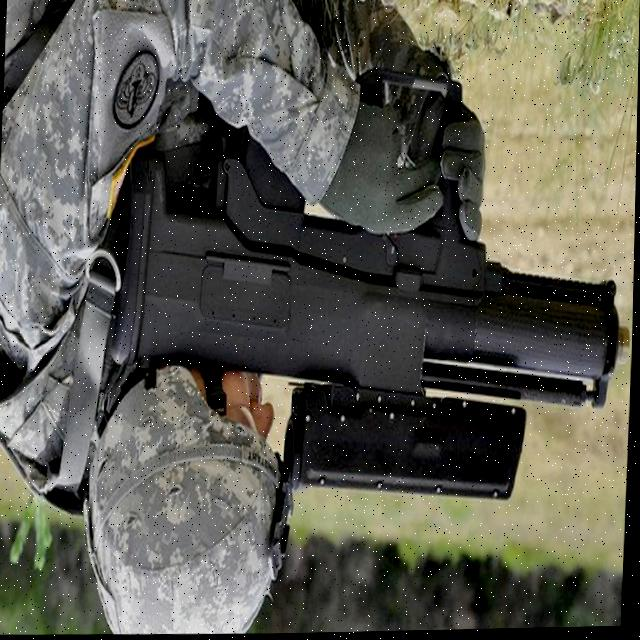firearm: (109, 111, 638, 510)
